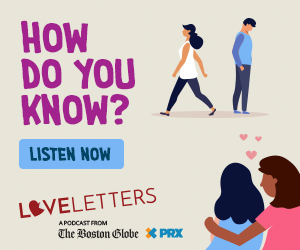fake_button: (16, 136, 131, 176)
